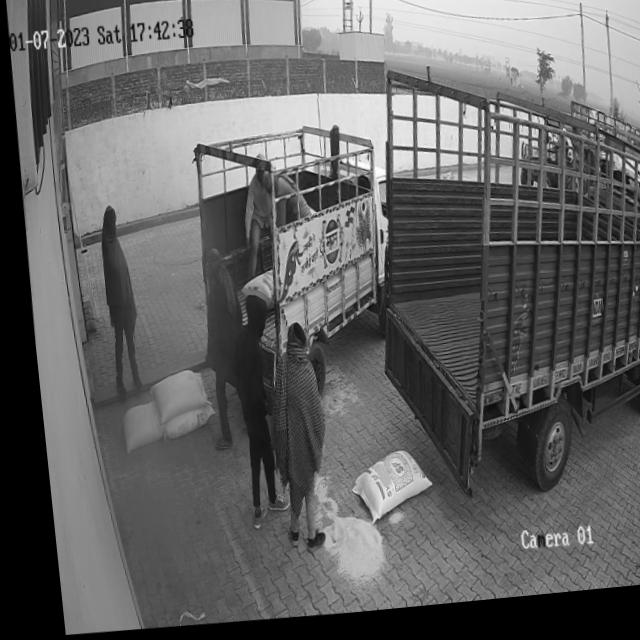sack: (335, 454, 424, 530), (139, 370, 198, 426), (110, 402, 154, 454), (152, 408, 207, 442)
